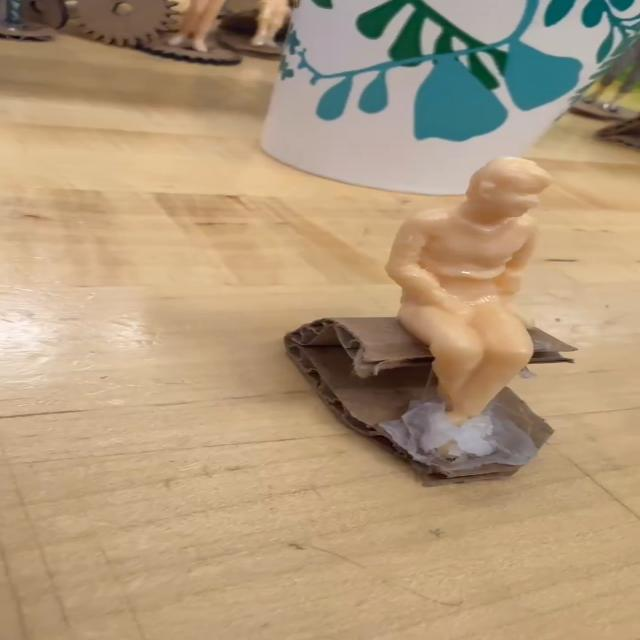Unauthorized: (390, 158, 552, 441)
